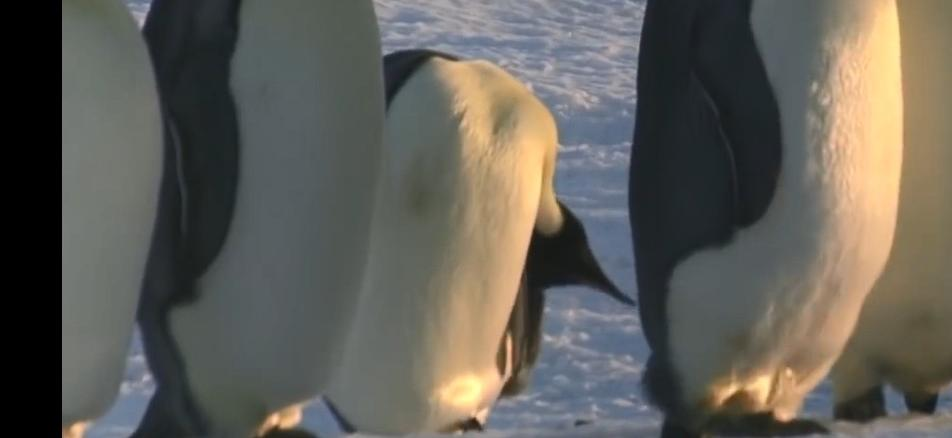Emperor Penguin: (322, 4, 644, 438), (630, 0, 913, 437), (140, 0, 405, 432), (827, 0, 952, 425), (64, 0, 152, 438)
